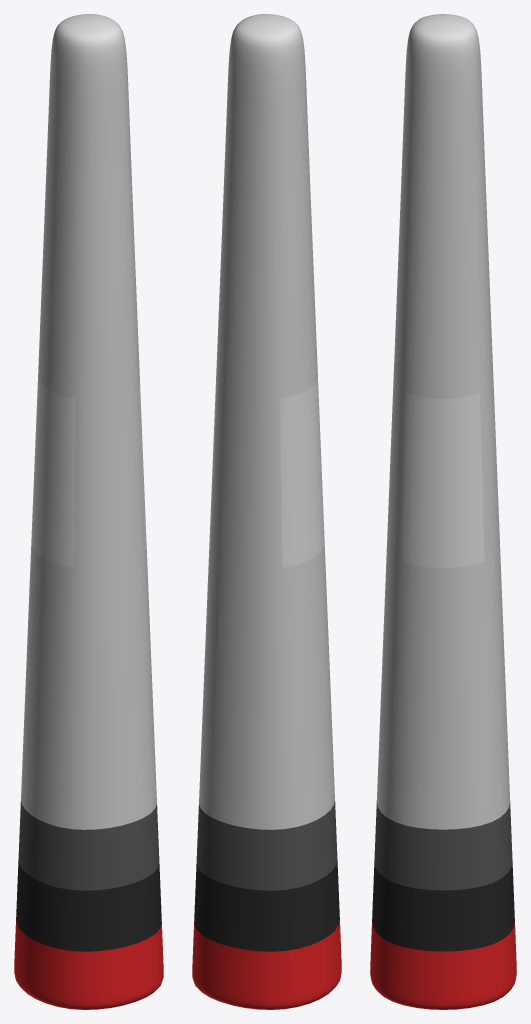
The picture shows the model from 3 angles, left to right: view 1: azimuth 30°, elevation 25°; view 2: azimuth 150°, elevation 25°; view 3: azimuth 270°, elevation 25°; orthographic projection.
Visible parts, largest first — view 1: флаг-конус; view 2: флаг-конус; view 3: флаг-конус.
Boxes of the visible parts, left/top/right/bottom form: флаг-конус: left=14, top=14, right=163, bottom=1009; флаг-конус: left=192, top=14, right=341, bottom=1009; флаг-конус: left=370, top=14, right=516, bottom=1009.
Bounding box in the file's own units: 213 × 1545 × 213.
